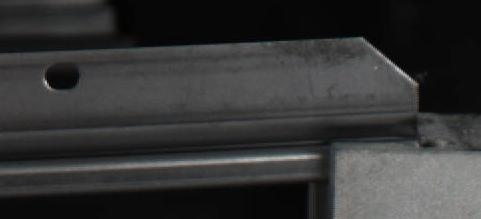cut: (287, 35, 420, 178)
holes: (43, 58, 82, 92)
